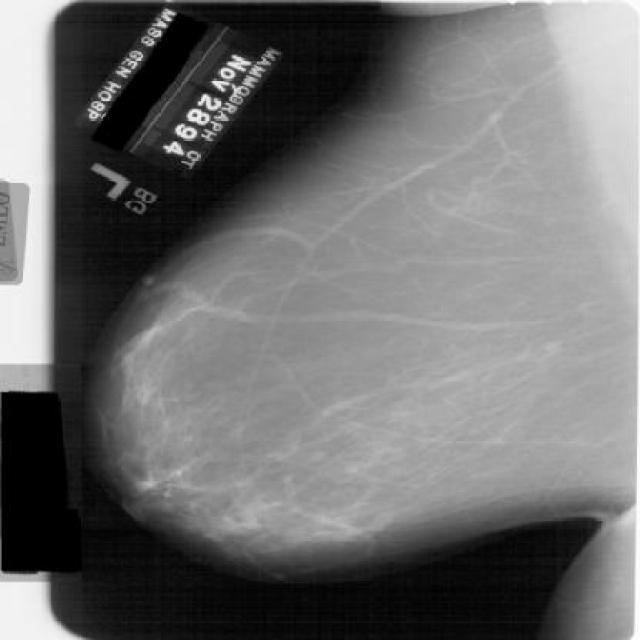tumor: (126, 300, 373, 585)
